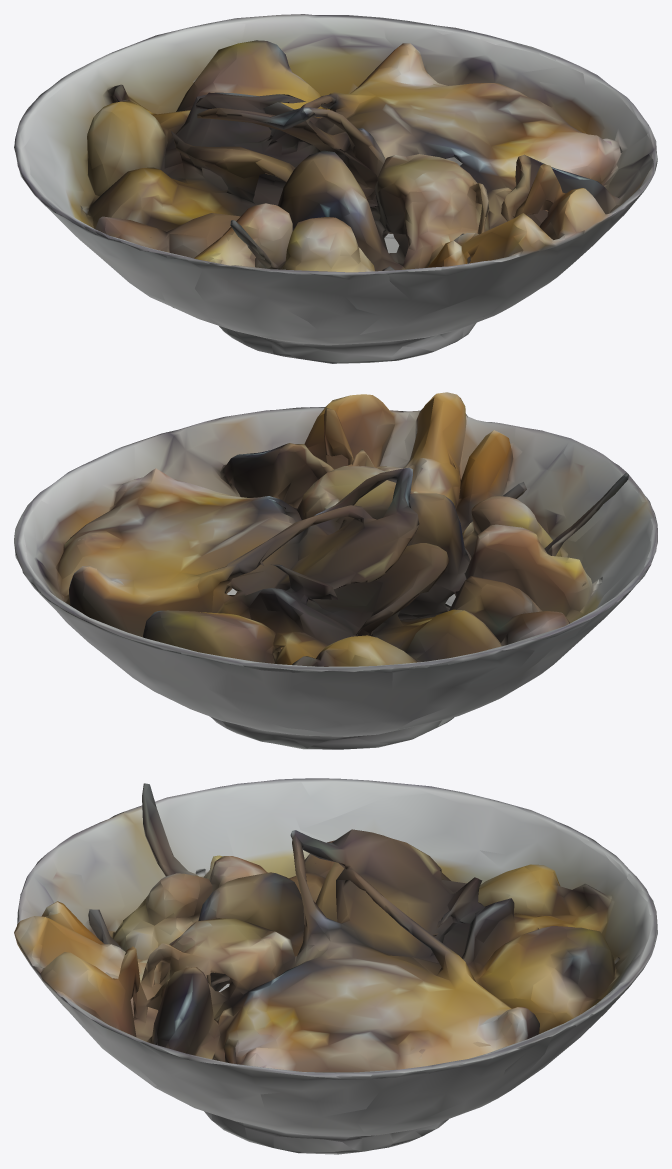
Rendered from 0007_mask_008_braised_mushrooms_and_meat.glb.
3 views of the same model, one above another, from view 1: azimuth 30°, elevation 25°; view 2: azimuth 150°, elevation 25°; view 3: azimuth 270°, elevation 25° (orthographic).
Visible parts, largest first — view 1: mask_008_object; view 2: mask_008_object; view 3: mask_008_object.
Boxes of the visible parts, x1=… form: mask_008_object: x1=14, y1=14, x2=657, y2=363; mask_008_object: x1=14, y1=392, x2=657, y2=749; mask_008_object: x1=14, y1=778, x2=657, y2=1154.
Bounding box in the file's own units: 0.4246 × 0.1683 × 0.4137.
